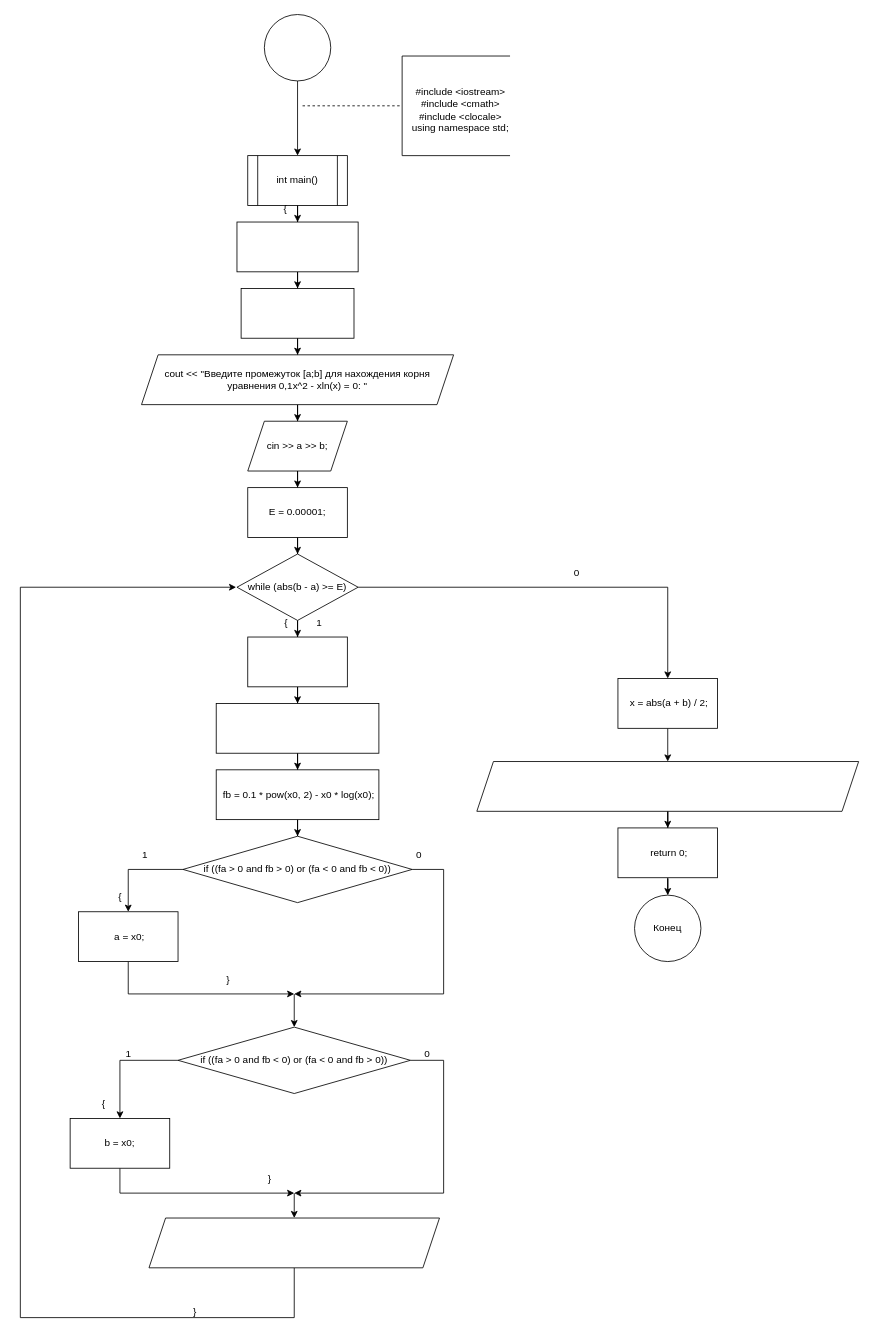
Some shapes in this 873 by 1339 pixel diagram are drawn without their labels. The centre of each missing label's shape, as x and y in pixels:
cout << "Конечный приближённый корень уравнения 0,1x^2 - xln(x) = 0: " << x;: [667,786]
cout << "Промежуточные корни: " << abs(a + b) / 2 << endl;: [293,1242]
fa = 0.1 * pow(a, 2) - a * log(a);: [297,728]
float a, b, x0, fa, fb, E, x;: [297,313]
setlocale(LC_ALL, "RU");: [297,246]
x0 = (a + b) / 2;: [297,661]
Начало: [297,47]
